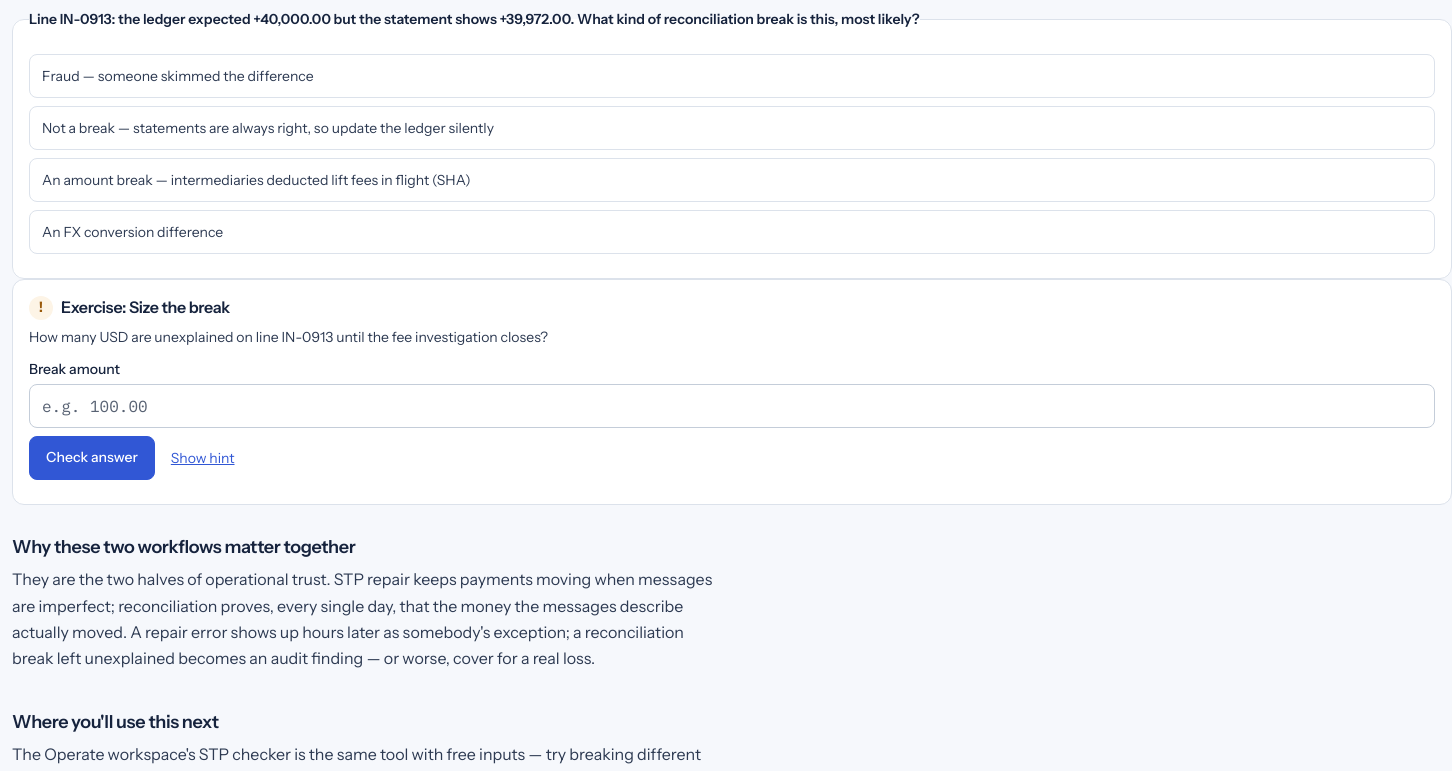
Scenario: OpsRepairContent › redirects the 12.00 service-charge answer to the right break
This screenshot has width=1452, height=771.
(page scrolled)
In the field labelled "Break amount": point(732, 406) [29,384,1435,428], type "12"
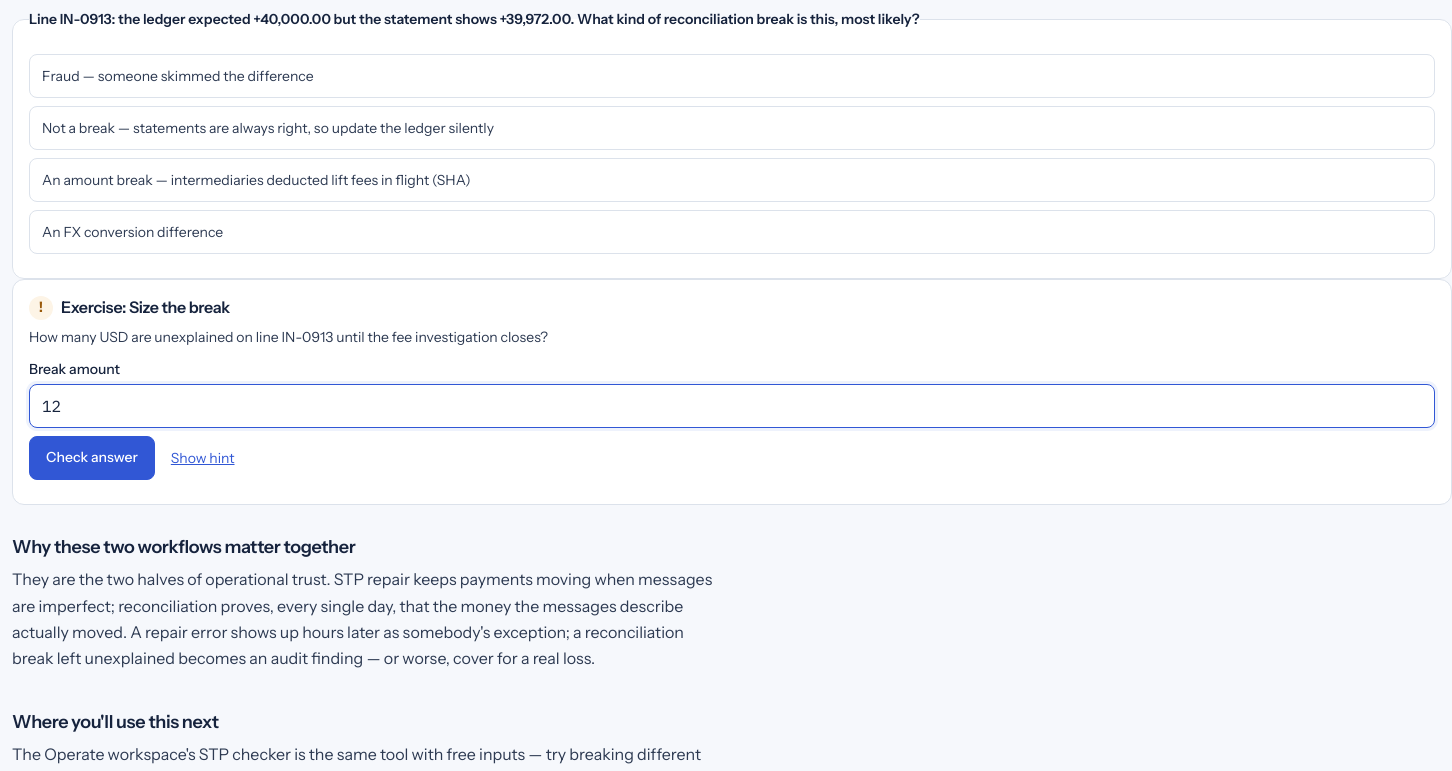
Click the button "Check answer": point(92, 458) [29,436,155,480]
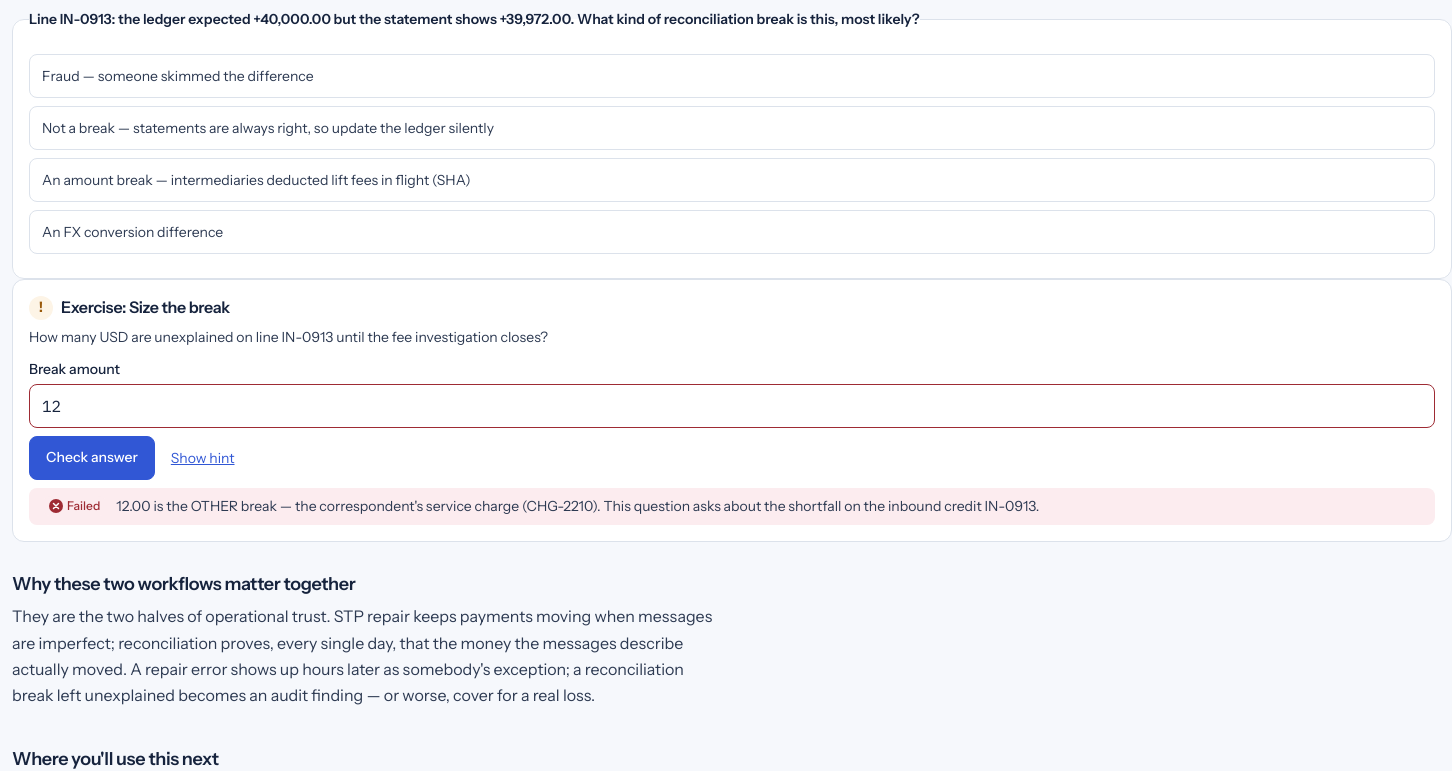
Expected: the text "the OTHER break" is shown, [116,496,1040,514]
